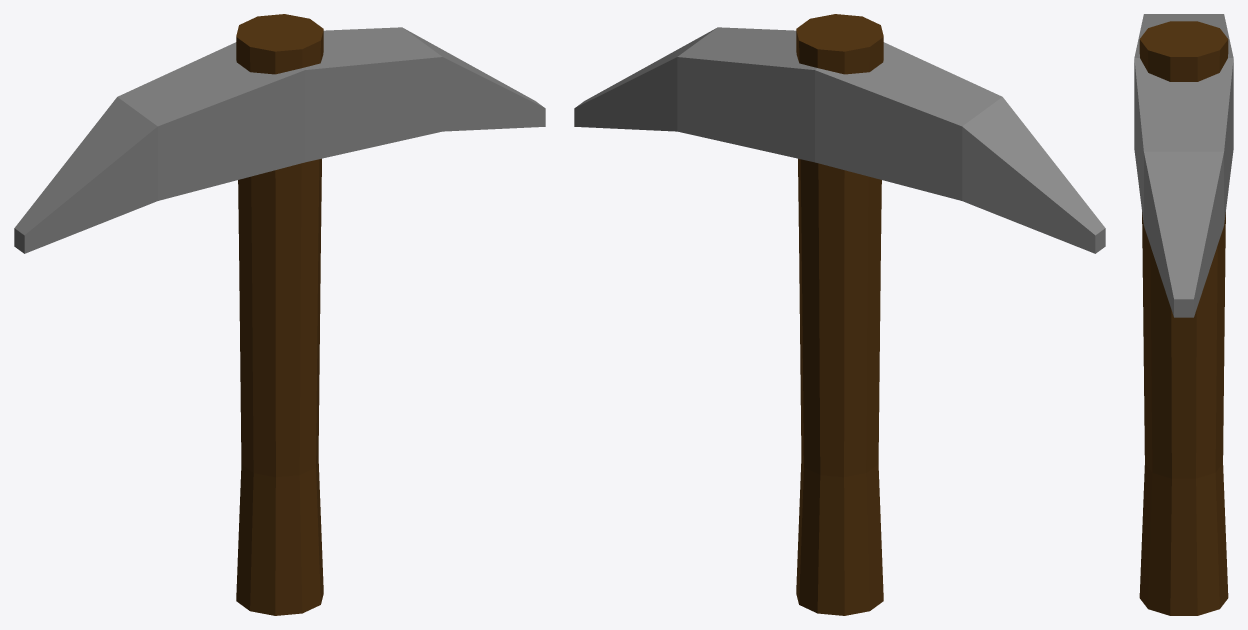
Rendered from pickaxe1.fbx.
3 views of the same model, side by side, from view 1: azimuth 30°, elevation 25°; view 2: azimuth 150°, elevation 25°; view 3: azimuth 270°, elevation 25° (orthographic).
Parts seen in each view (by area): view 1: Cube, Cylinder; view 2: Cube, Cylinder; view 3: Cylinder, Cube.
Part boxes in pixels (box(x1,y1,x2,y2)): Cube: box(14, 27, 545, 253); Cylinder: box(236, 14, 323, 615); Cube: box(574, 27, 1105, 253); Cylinder: box(796, 14, 883, 615); Cylinder: box(1139, 21, 1228, 615); Cube: box(1134, 14, 1233, 317).
Bounding box in the file's own units: 337 × 349 × 56.1.
